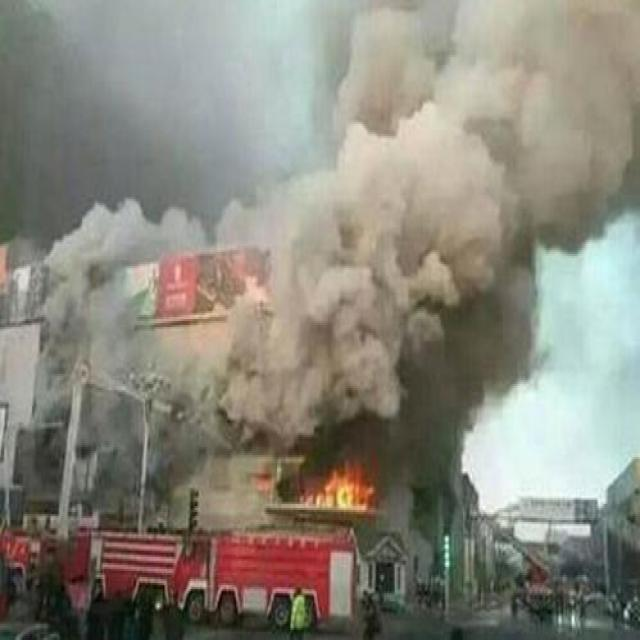Fire: (300, 459, 376, 514)
Smoke: (31, 0, 640, 449)
